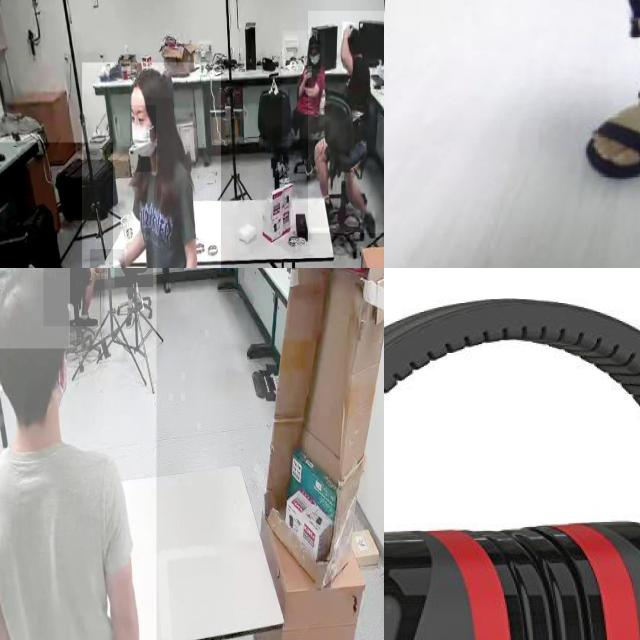Ear-protection: (384, 520, 550, 640)
Sandals: (565, 51, 640, 189)
face_mask: (130, 105, 156, 172), (308, 46, 320, 68)
hand_glove: (89, 249, 124, 268)
hand_noglove: (341, 22, 353, 38), (302, 66, 312, 78)
head_nohelmet: (0, 268, 70, 349), (129, 65, 171, 99), (344, 22, 361, 38), (307, 34, 321, 46)
person: (0, 268, 156, 640), (82, 62, 221, 268), (307, 11, 384, 234), (0, 142, 113, 268), (282, 30, 325, 140), (43, 268, 104, 326)
shoes: (120, 298, 136, 332), (78, 310, 100, 331), (132, 284, 146, 312)
